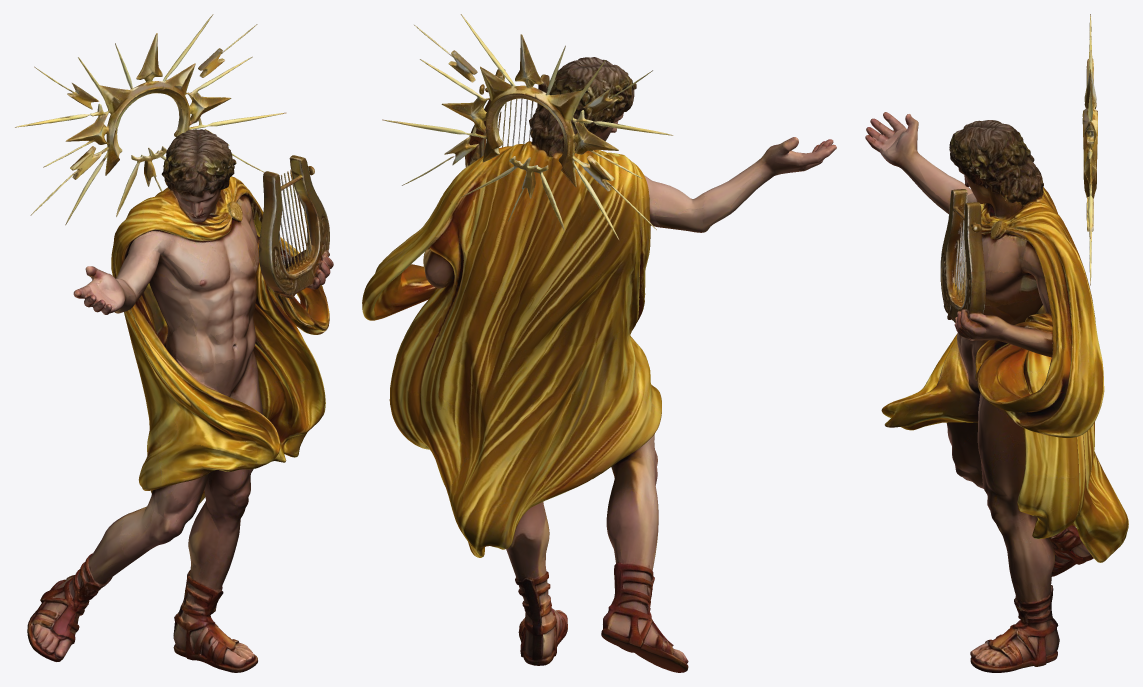
The model's file is wonder_colossus__apollo-sun-god.glb.
3 views of the same model, side by side, from view 1: azimuth 30°, elevation 25°; view 2: azimuth 150°, elevation 25°; view 3: azimuth 270°, elevation 25° (orthographic). The views are drawn at different scales.
Size of the model in its own units: 1.11 by 1.9 by 0.769.
Materials: 1 (1 with a texture image).
